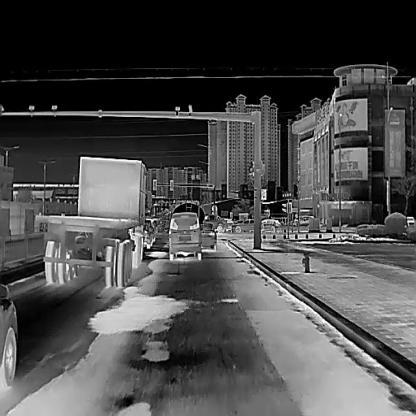car: (35, 155, 152, 286), (168, 211, 201, 259), (200, 223, 217, 250), (203, 214, 227, 232), (142, 217, 155, 249), (235, 219, 262, 231), (293, 216, 311, 226)
